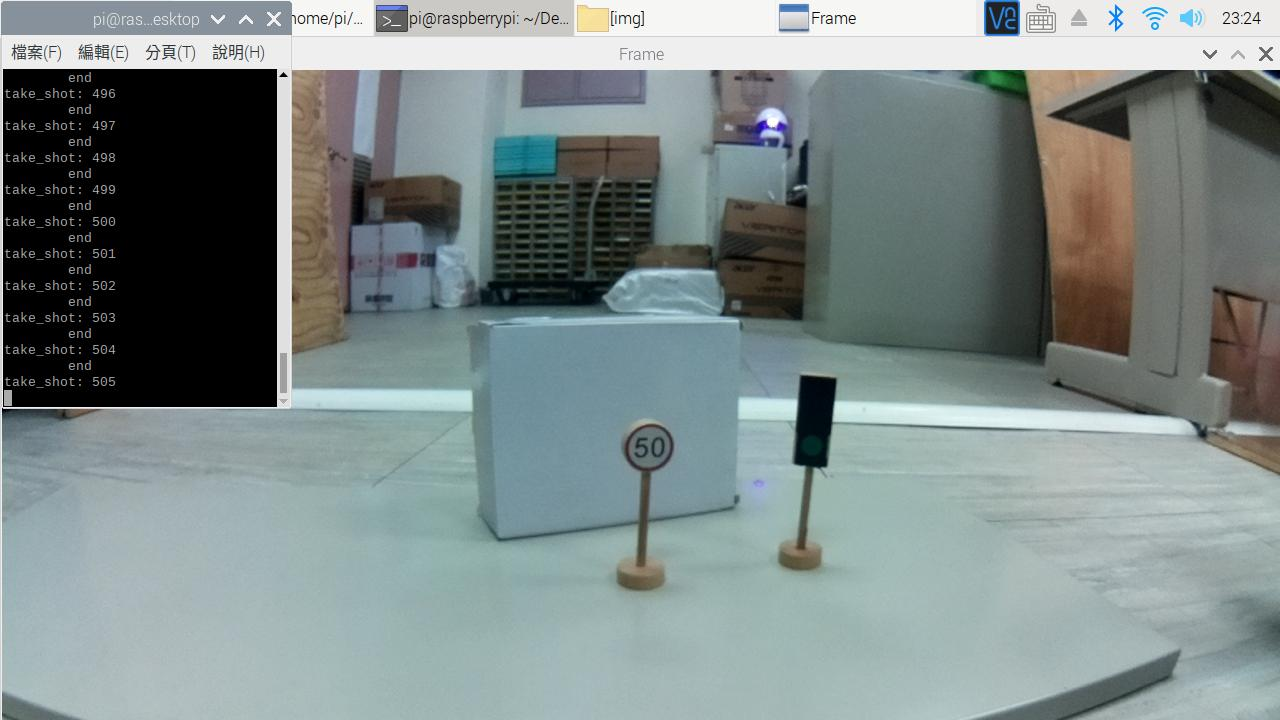Green: (786, 368, 839, 475)
Speed50: (608, 409, 690, 478)
